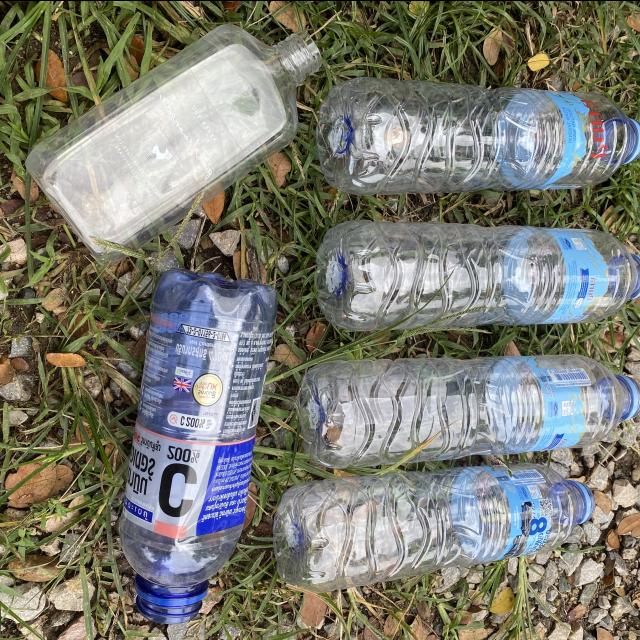plastik: (27, 24, 321, 261), (119, 268, 277, 622), (273, 463, 594, 591), (298, 354, 640, 467), (316, 76, 640, 194), (315, 220, 640, 330)
